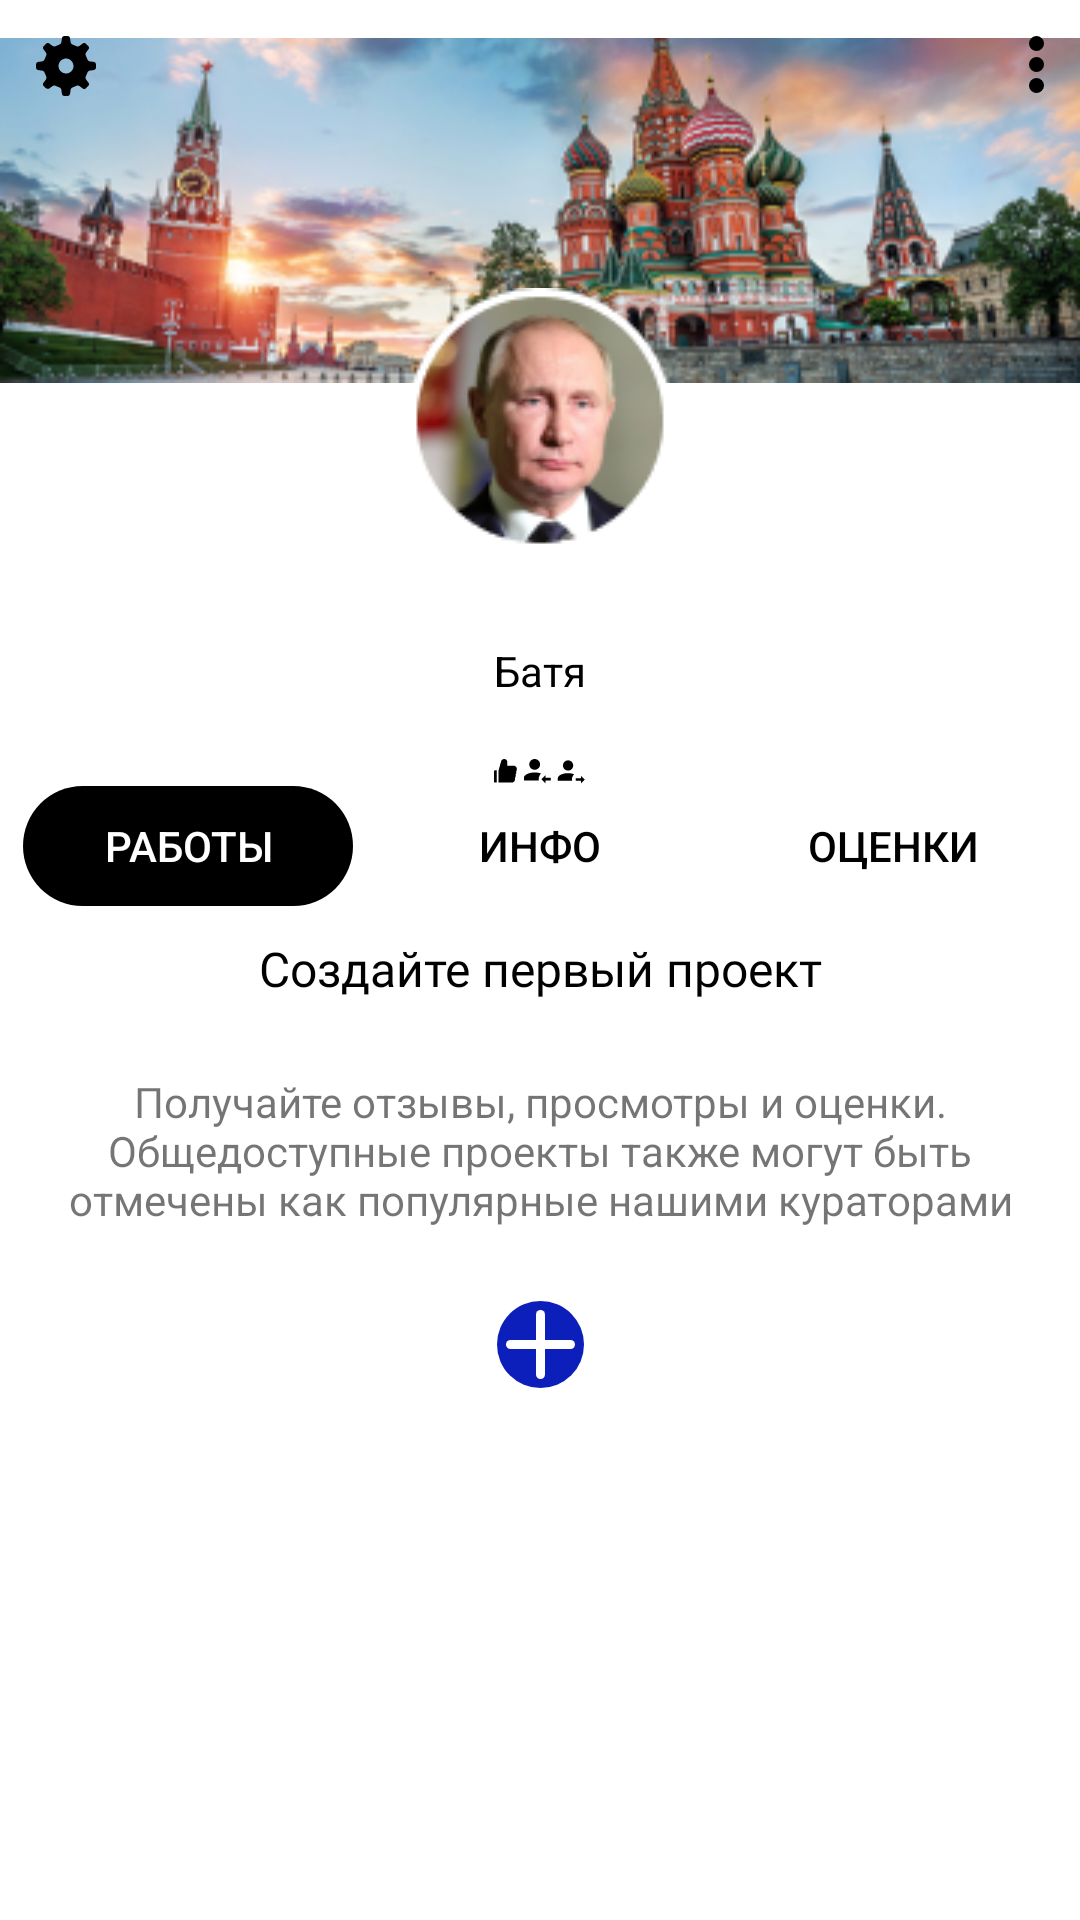

Point at icon controls on the screen. Image size 1080x1920, points as [x,y].
group 26plus: [540,1344]
vectorsettings: [66,66]
